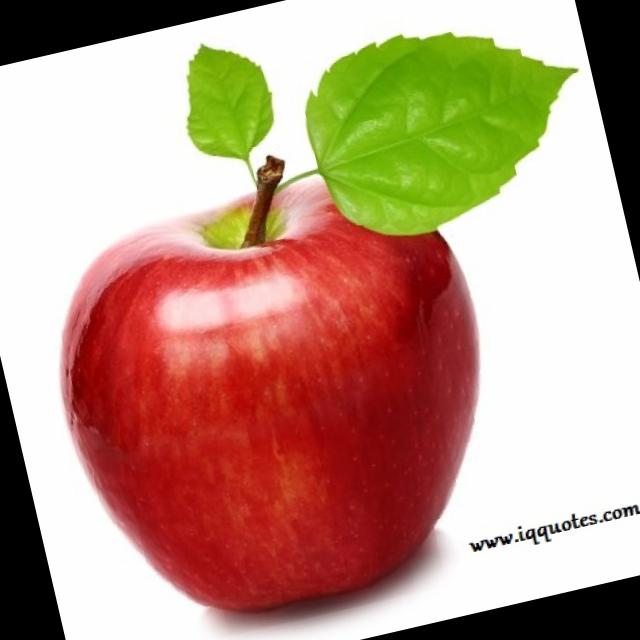apple: (30, 146, 536, 640)
